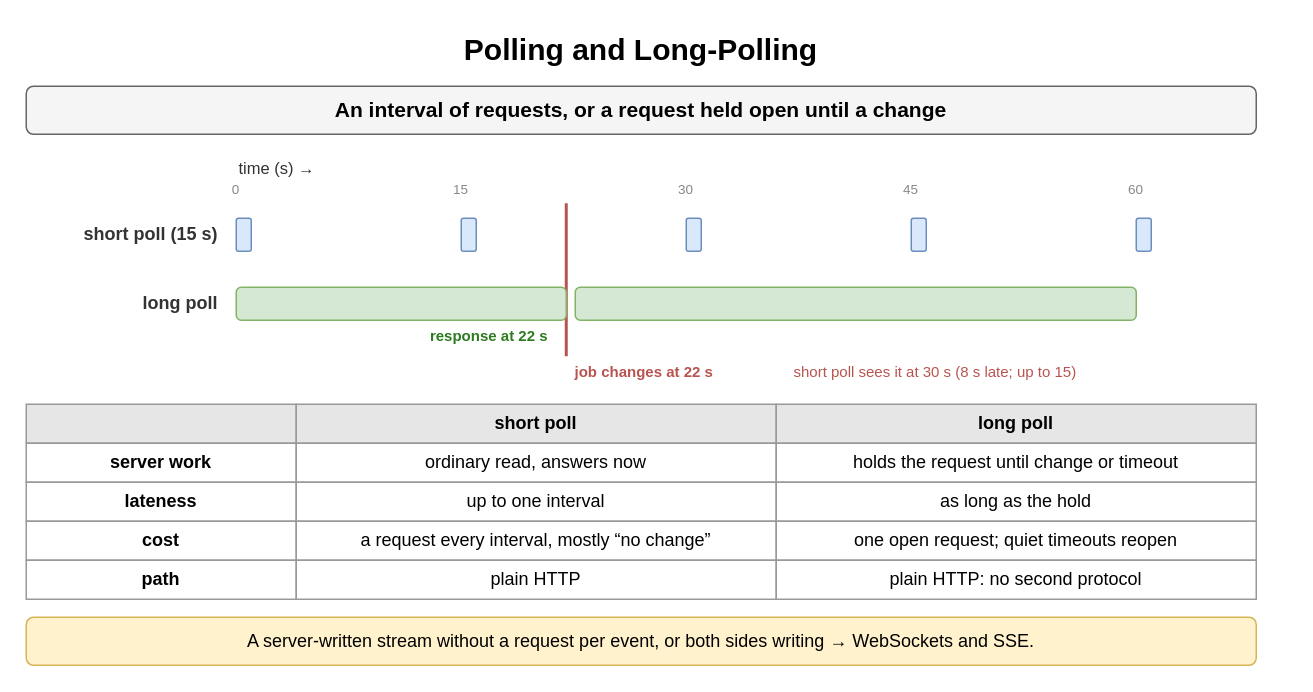
The diagram is 1313 pixels wide and 692 high, and some of its shapes have lost their labels. The centre of each missing label's shape, as x and y in pixels:
"GET held open" belongs at (400,303).
"next GET held" belongs at (855,303).
